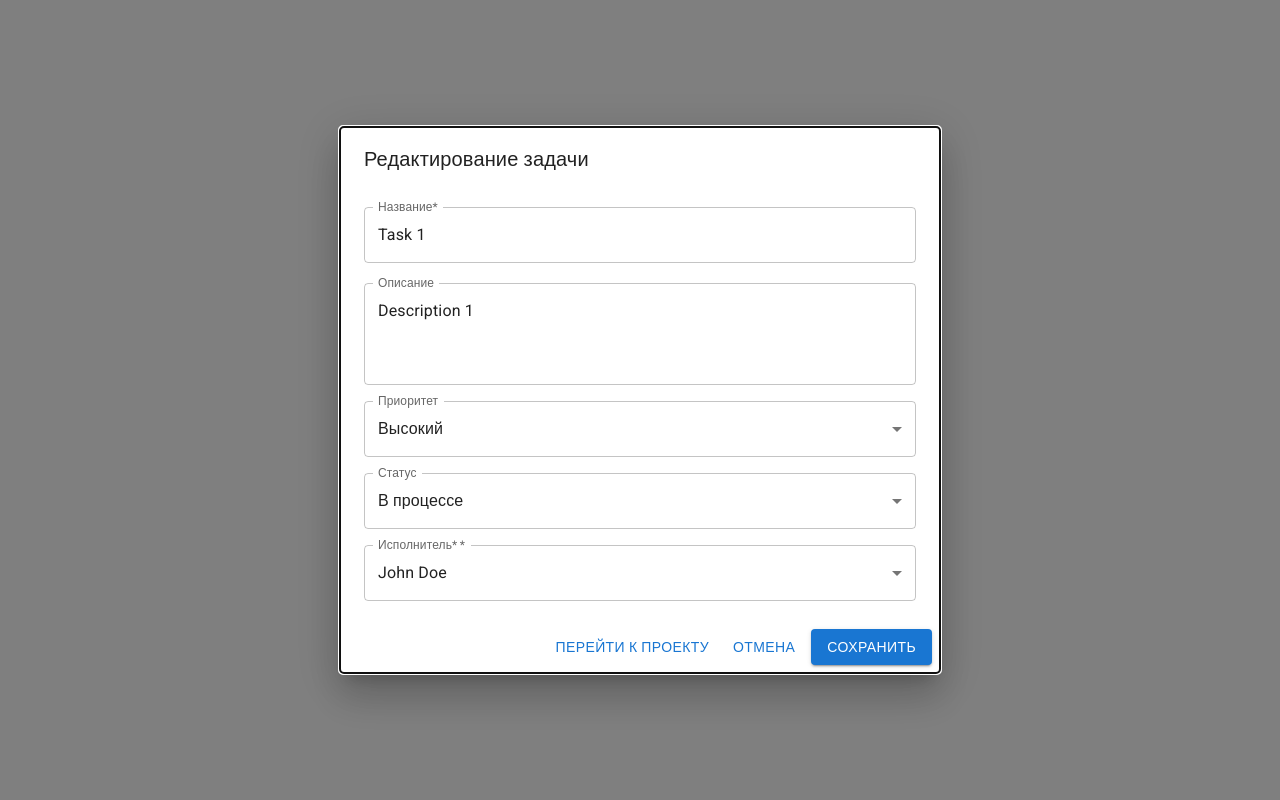
it: EditTaskModal › should show error for empty title
Clear the field labelled "Название*": (640, 235) [364,207,916,263]
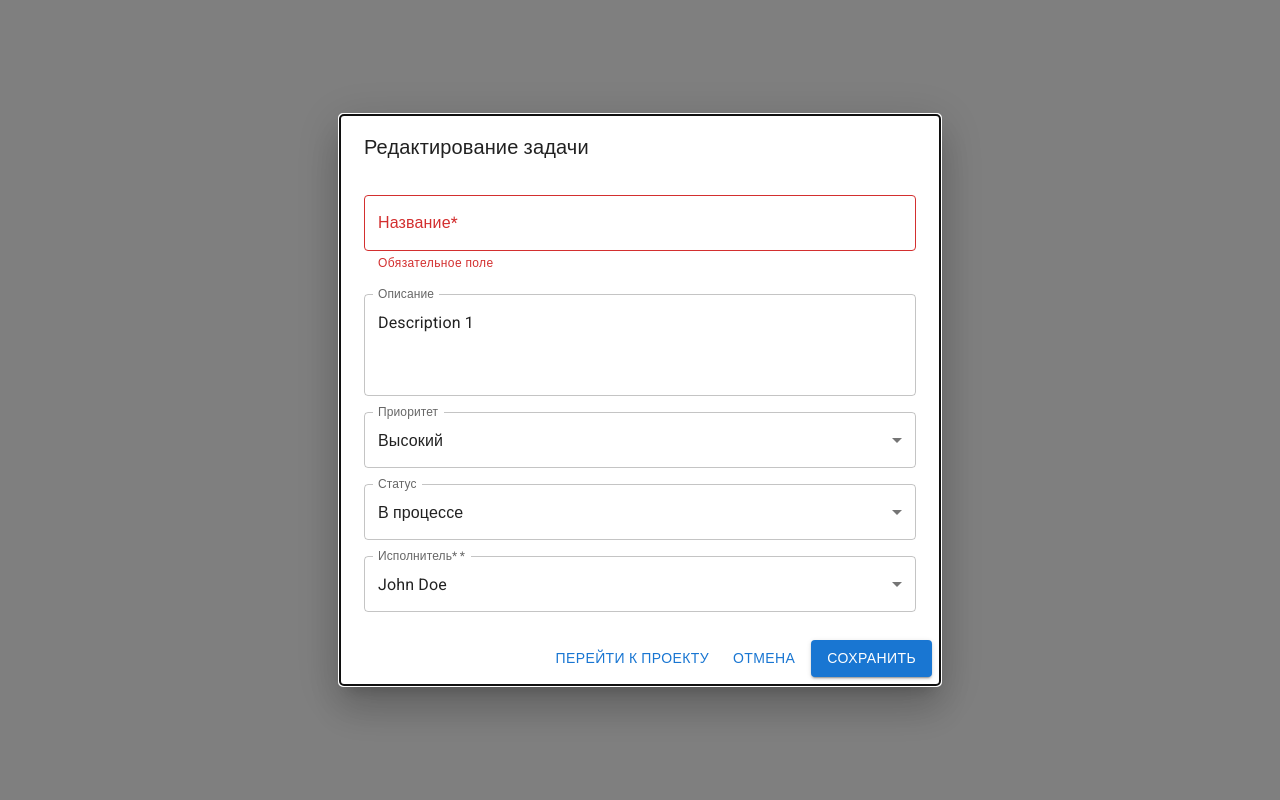
Click the button "Сохранить": (872, 658) [811,640,932,677]
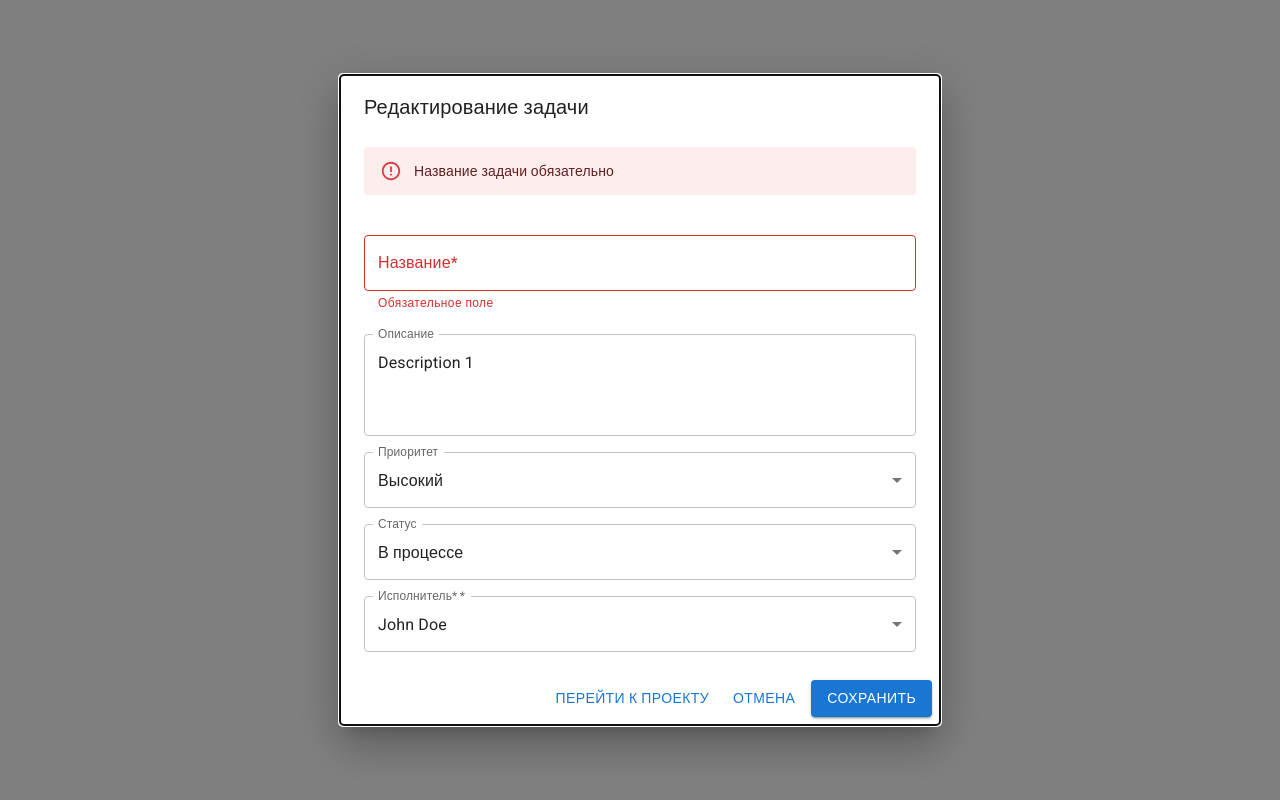
Result: the text "Название задачи обязательно" is shown at [414,163,614,179]
